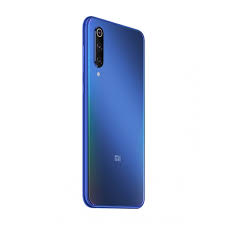mi: (79, 16, 147, 210)
